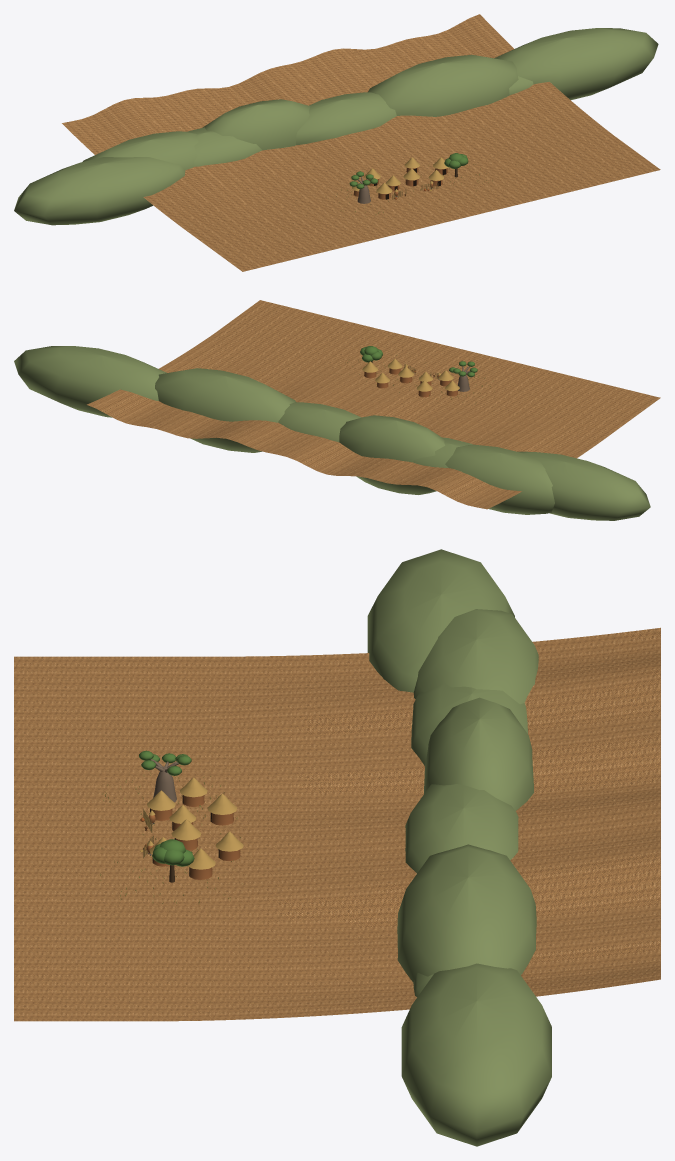
Rendered from village.glb.
The picture shows the model from 3 angles, top to bottom: view 1: azimuth 30°, elevation 25°; view 2: azimuth 150°, elevation 25°; view 3: azimuth 270°, elevation 25°; orthographic projection. The views are drawn at different scales.
Parts seen in each view (by area): view 1: sol, decor; view 2: sol, decor; view 3: sol, decor.
Part boxes in pixels (x1=…): sol: x1=62, y1=14, x2=660, y2=271; decor: x1=14, y1=28, x2=658, y2=225; sol: x1=87, y1=300, x2=660, y2=509; decor: x1=14, y1=346, x2=650, y2=520; sol: x1=14, y1=627, x2=660, y2=1021; decor: x1=100, y1=549, x2=551, y2=1146.
Size of the model in its own units: 188 by 19.8 by 90.
16 materials, 1 textured.
